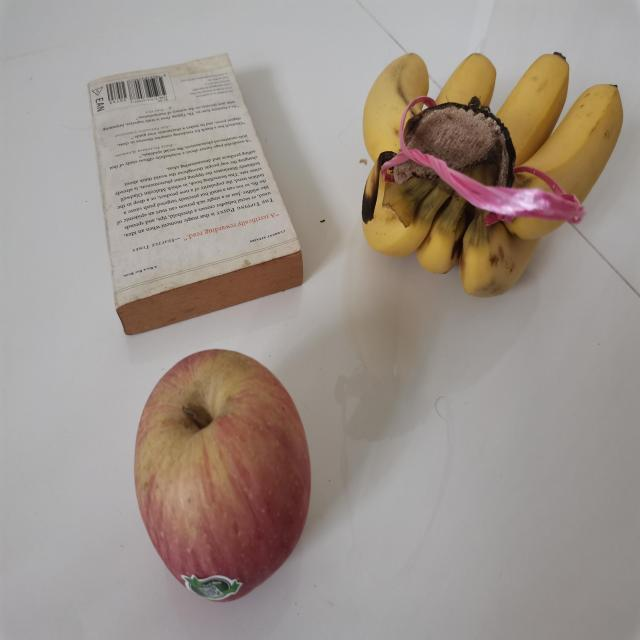Apple: (131, 347, 312, 601)
Banana: (355, 50, 623, 296)
Book: (84, 51, 309, 339)
